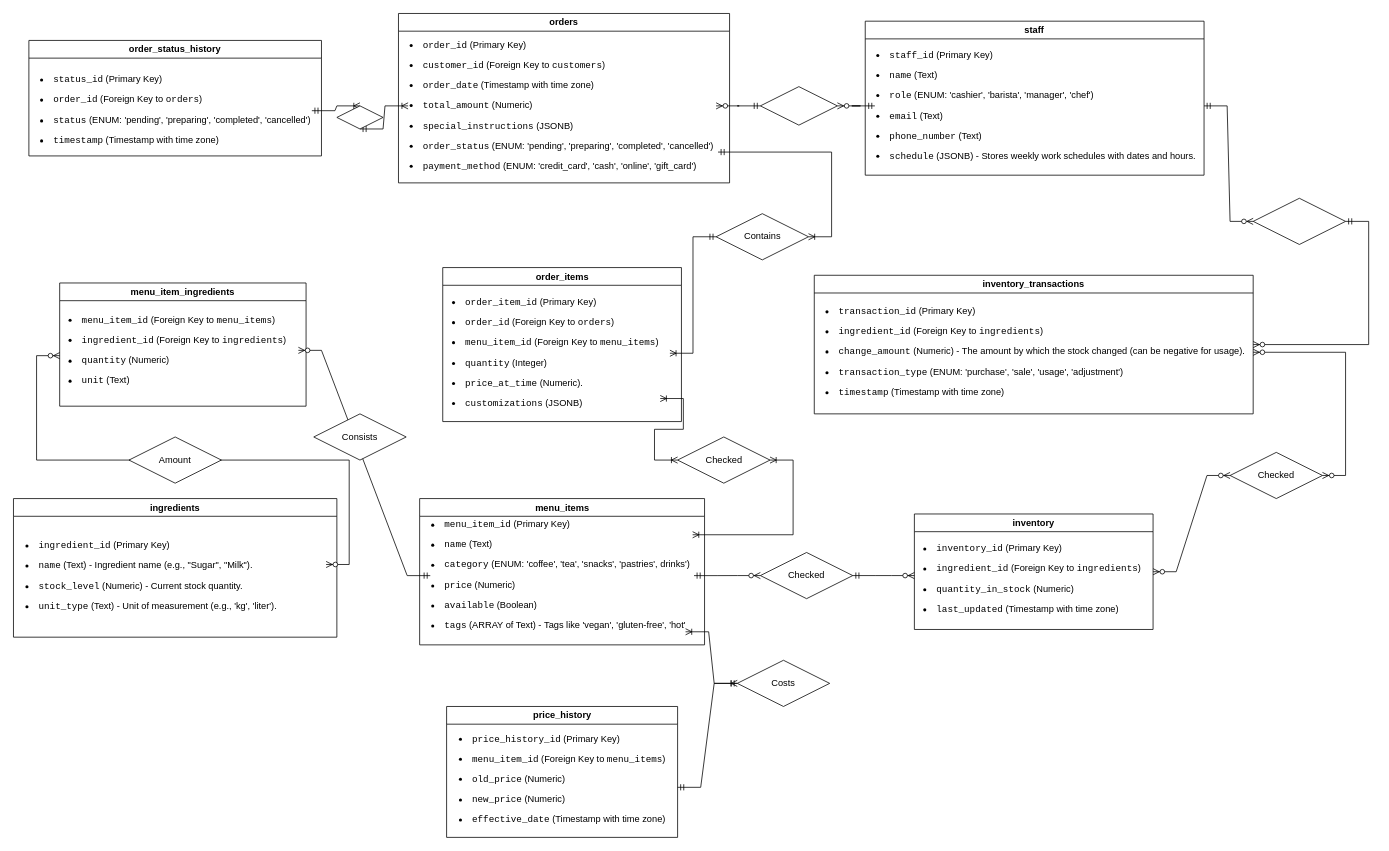
This 1389x851 diagram has some shape labels left out. Each missing label, with the centre of its shape:
Places: point (1299, 221)
Taken: point (798, 105)
tracks: point (359, 117)
